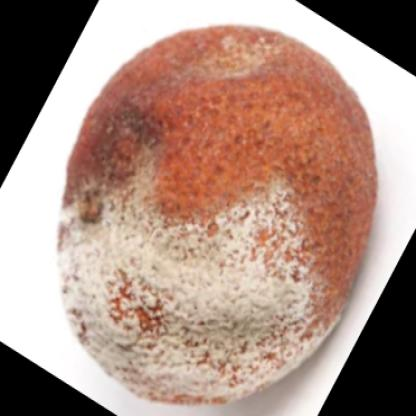rotten: (59, 26, 378, 407)
